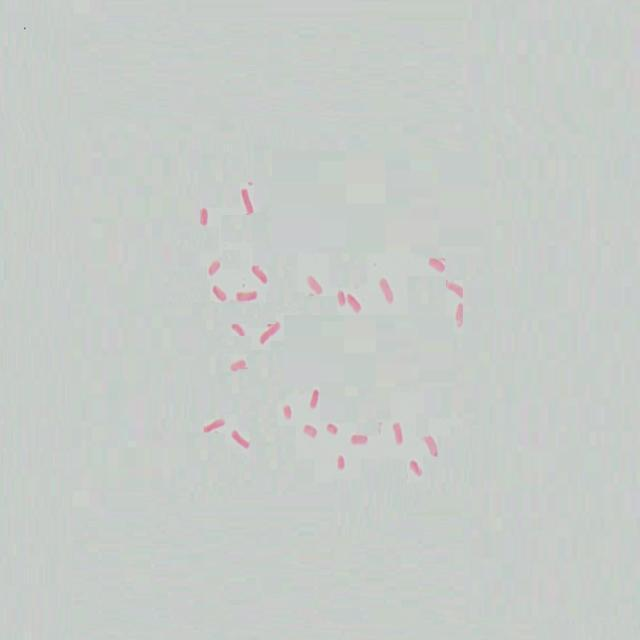E-coli: (376, 276, 397, 310), (229, 425, 250, 454), (198, 417, 226, 438), (238, 186, 255, 220), (423, 433, 442, 461), (350, 428, 370, 454), (346, 287, 363, 317), (304, 384, 321, 414), (389, 419, 407, 447), (443, 275, 466, 295), (304, 274, 322, 297), (227, 355, 250, 373), (230, 317, 246, 342), (211, 282, 229, 304), (260, 321, 276, 345), (407, 456, 423, 479), (428, 253, 448, 271), (251, 261, 267, 283), (197, 203, 210, 228), (454, 305, 468, 327), (327, 418, 340, 441), (336, 449, 348, 473), (302, 422, 315, 442), (236, 289, 253, 303), (207, 259, 220, 276), (282, 406, 293, 424), (334, 288, 344, 307)
